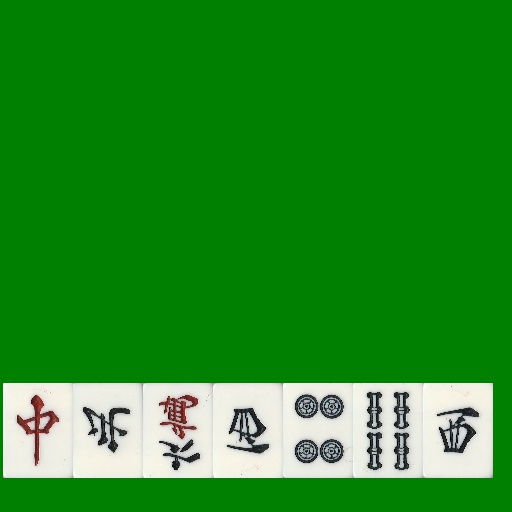4p: (283, 383, 353, 478)
4s: (353, 383, 423, 478)
6m: (143, 383, 213, 478)
north: (73, 383, 143, 478)
tyun: (3, 383, 73, 478)
west: (213, 383, 283, 478), (423, 383, 493, 478)
